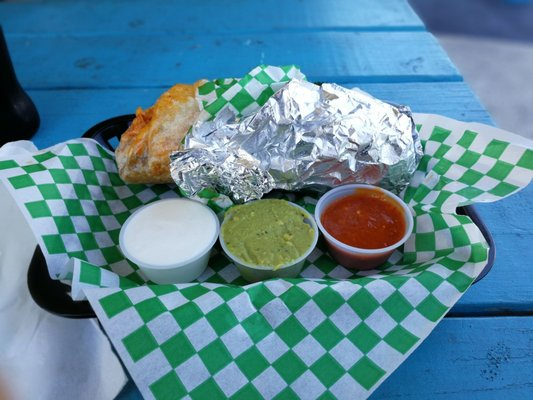sushi: (118, 197, 220, 284), (314, 184, 414, 271), (218, 198, 320, 283)
